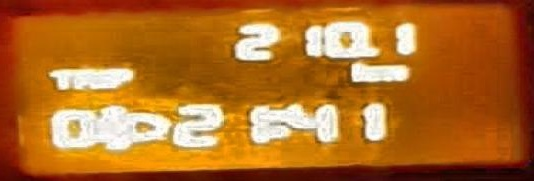-: (361, 45, 383, 56)
0: (46, 106, 98, 149), (322, 19, 369, 58)
1: (357, 100, 389, 141), (390, 20, 420, 57), (247, 103, 271, 145), (301, 23, 325, 56)
2: (170, 102, 224, 147), (229, 20, 279, 63)
4: (282, 101, 340, 144)
X: (370, 63, 410, 83), (46, 68, 73, 89), (109, 66, 133, 89), (350, 60, 372, 83), (73, 68, 94, 89), (272, 105, 280, 140), (96, 67, 106, 91)
